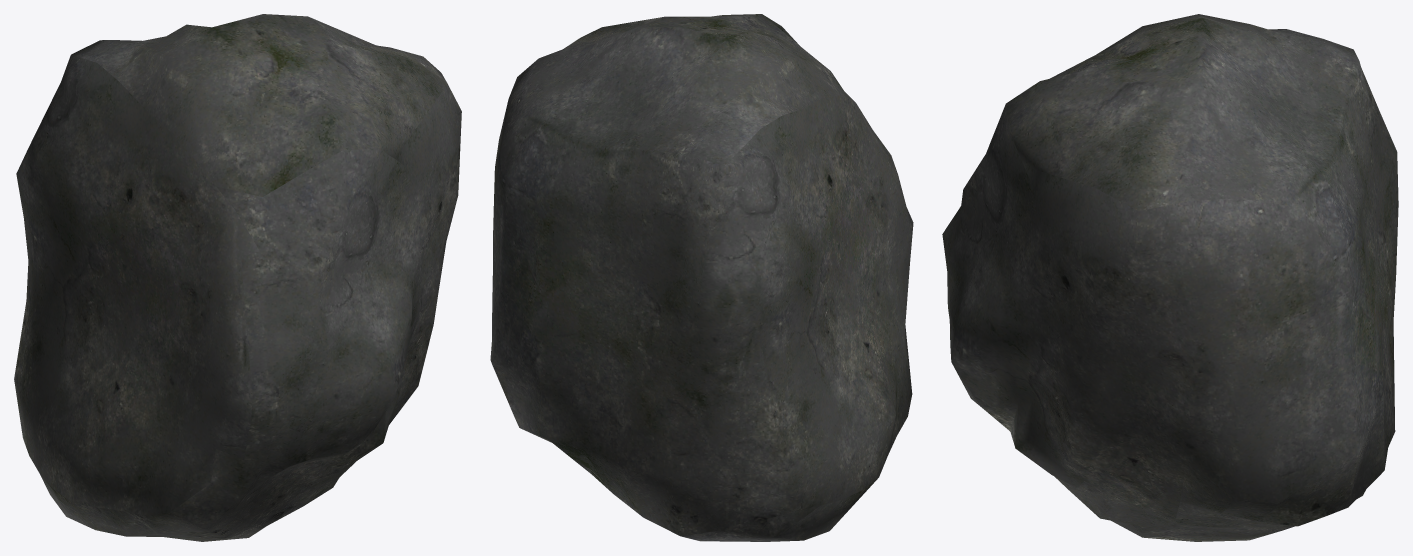
File: rock_forest_large.DAE
3 views of the same model, side by side, from view 1: azimuth 30°, elevation 25°; view 2: azimuth 150°, elevation 25°; view 3: azimuth 270°, elevation 25° (orthographic). The views are drawn at different scales.
Visible parts, largest first — view 1: klippahög_lowpoly; view 2: klippahög_lowpoly; view 3: klippahög_lowpoly.
Part boxes in pixels (left/top/right/bottom): klippahög_lowpoly: left=14, top=14, right=461, bottom=541; klippahög_lowpoly: left=490, top=14, right=913, bottom=541; klippahög_lowpoly: left=942, top=14, right=1398, bottom=541.
Size of the model in its own units: 4.85 by 6.12 by 4.86.
